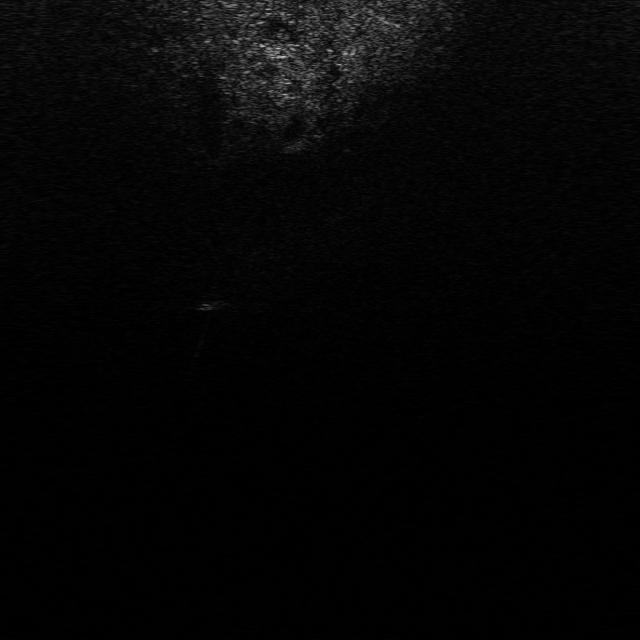cube: (188, 288, 228, 311)
